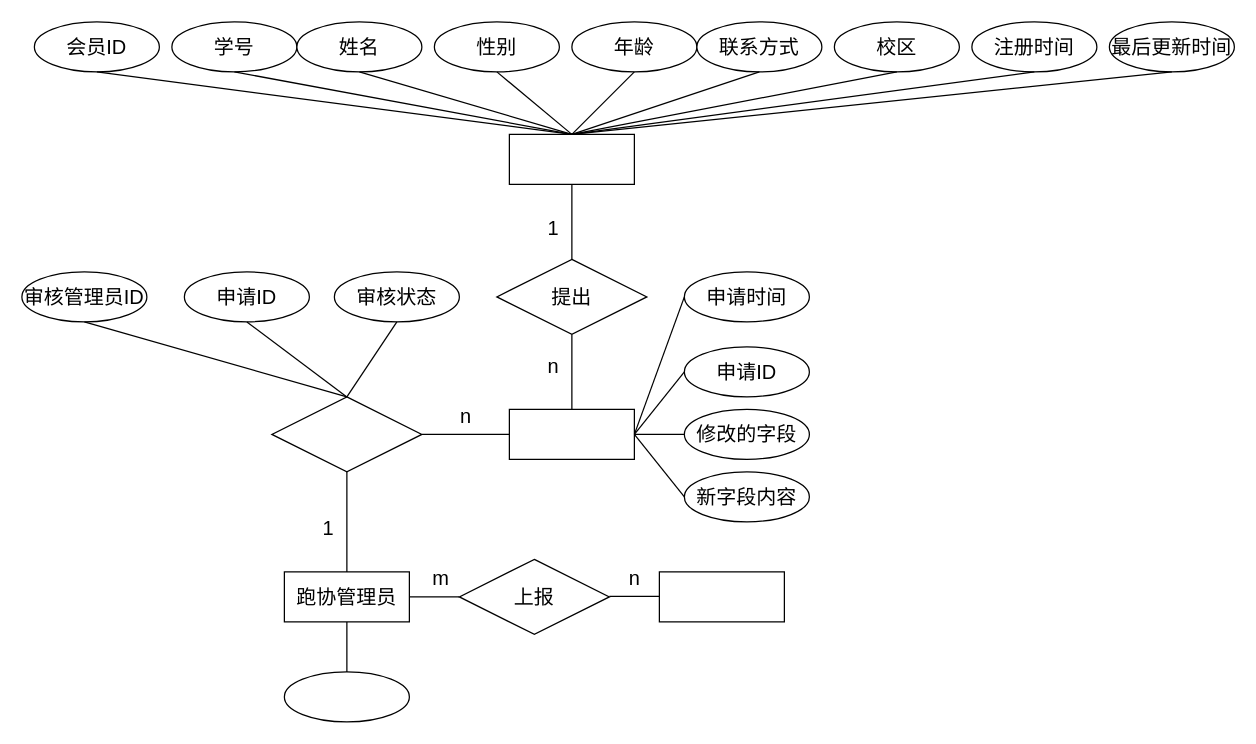
This 1256x744 diagram has some shape labels left out. The shapes that lost their labels are listed below. From the top down, each one's box as (x1, y1, x2, y2) in pixels, then its label:
(508, 133, 634, 184): 跑协会员
(271, 396, 422, 472): 合法性校验
(508, 408, 634, 459): 信息更新申请
(658, 571, 784, 622): 复旦社团管理员
(283, 671, 409, 722): 管理员ID
